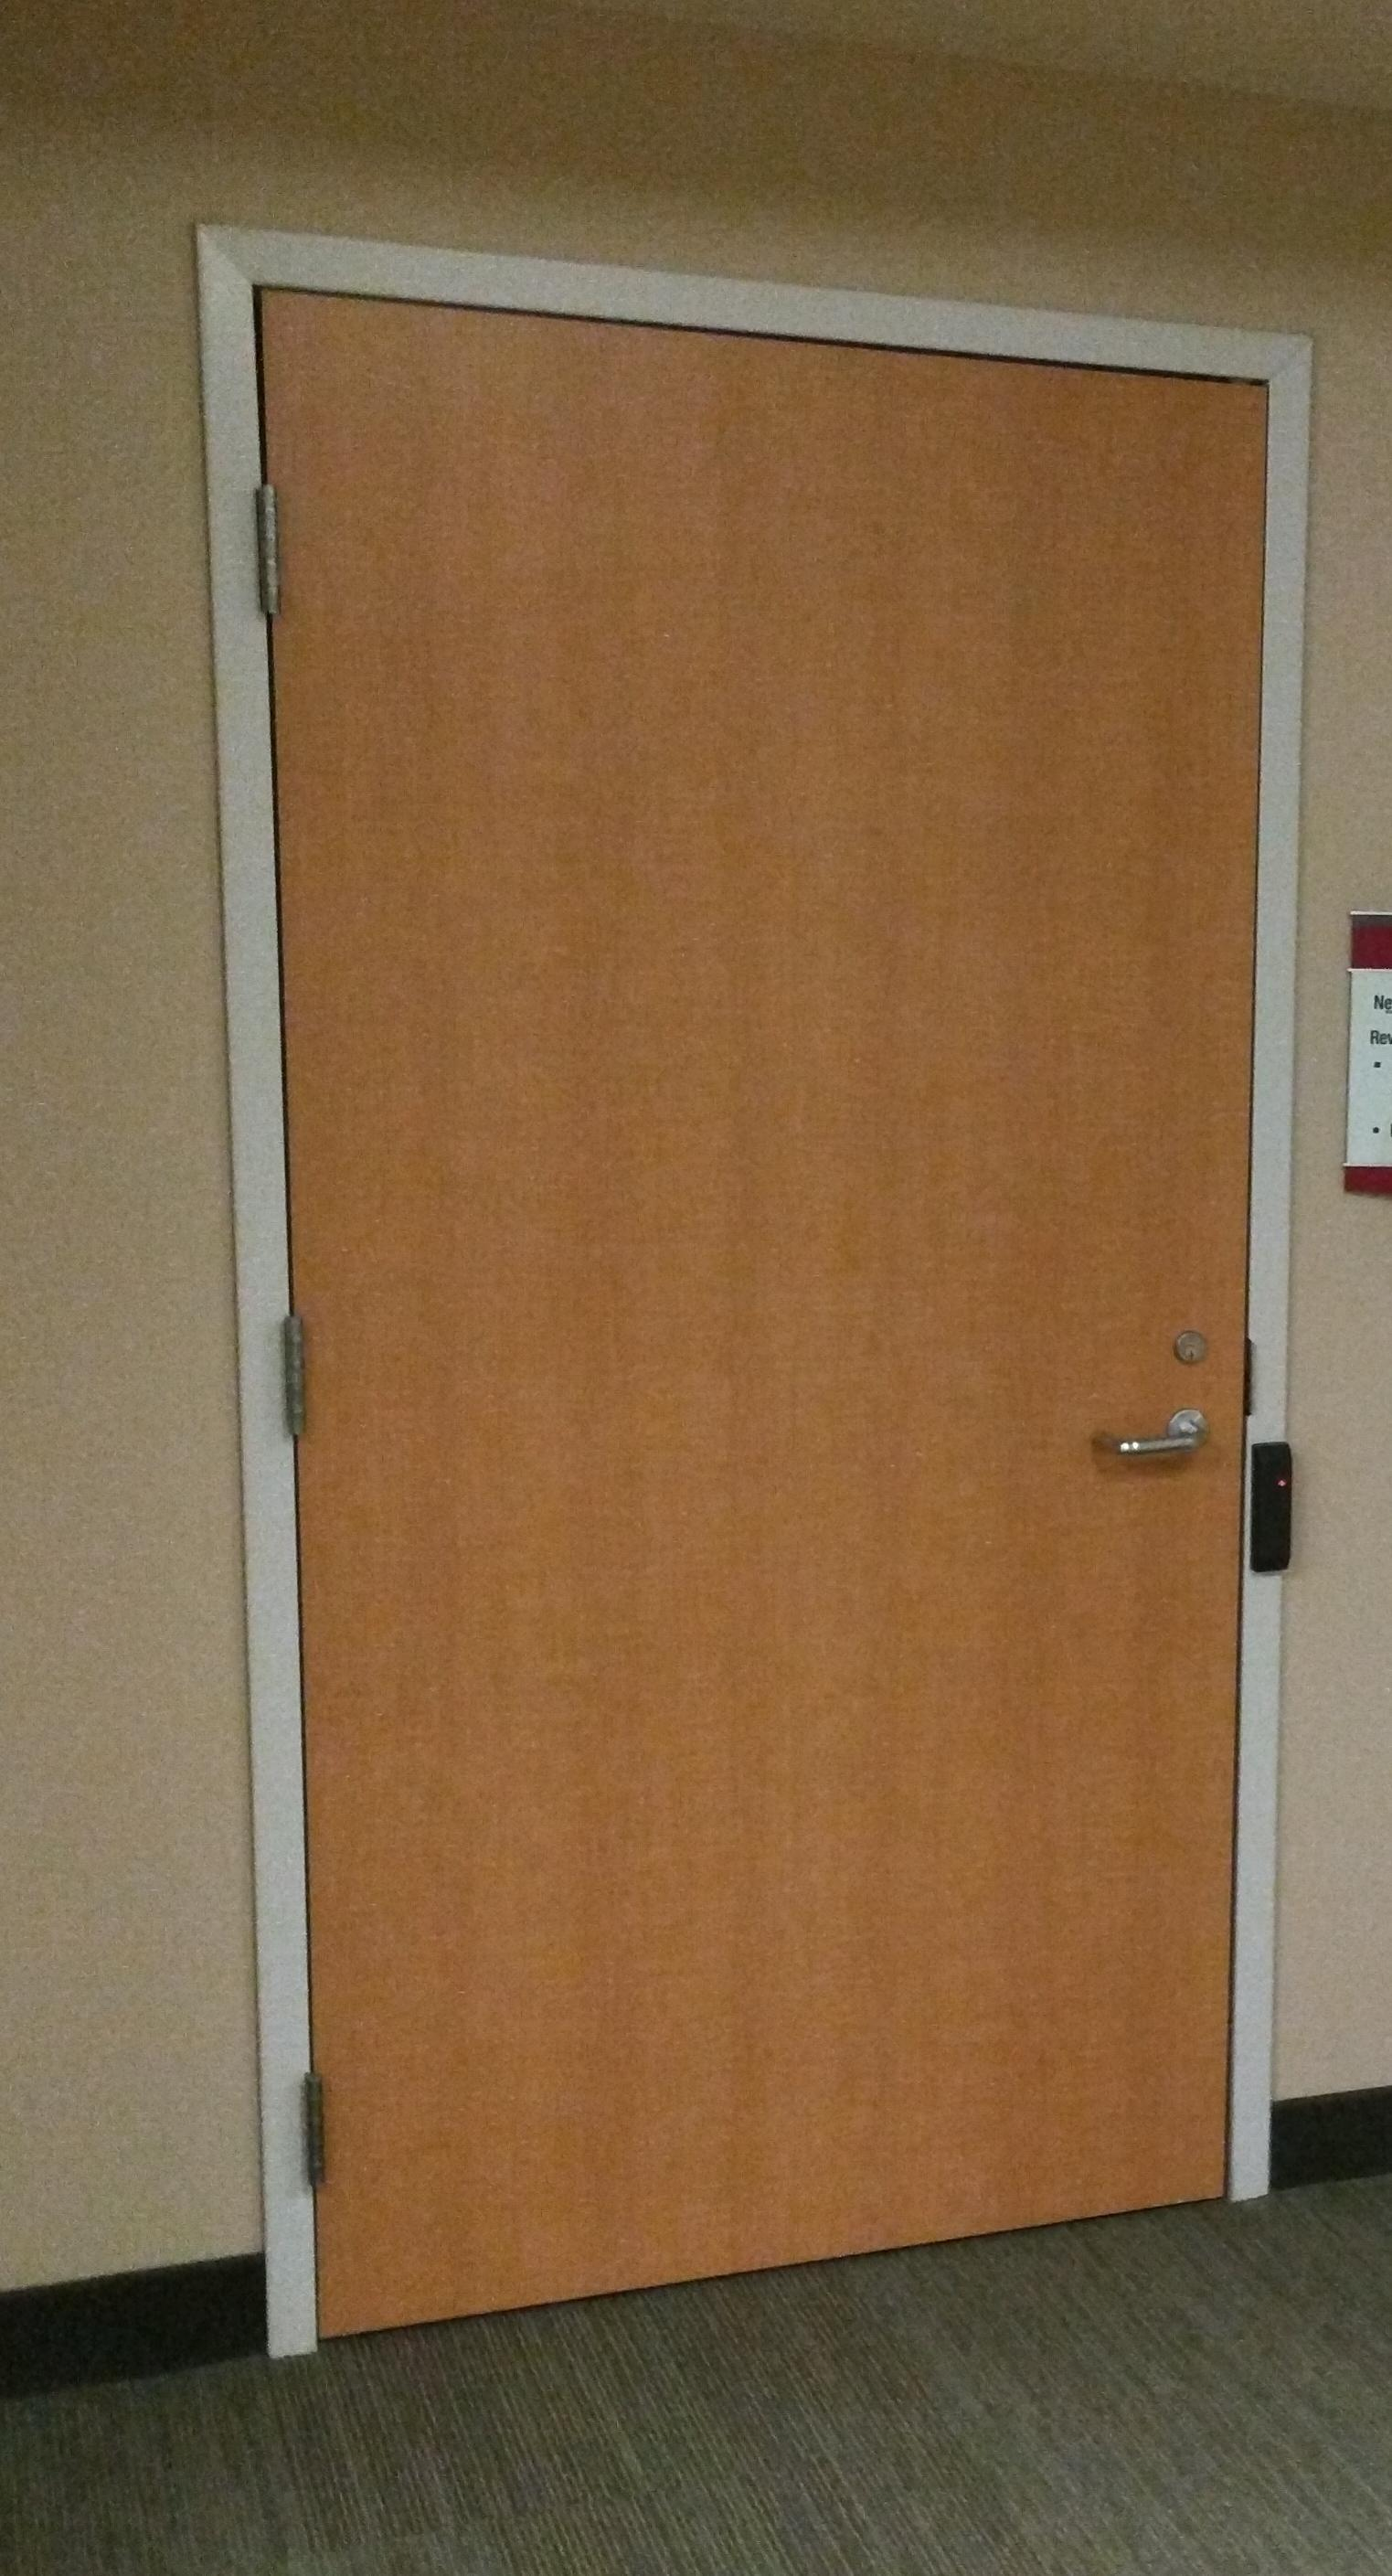door: (233, 271, 1267, 2338)
